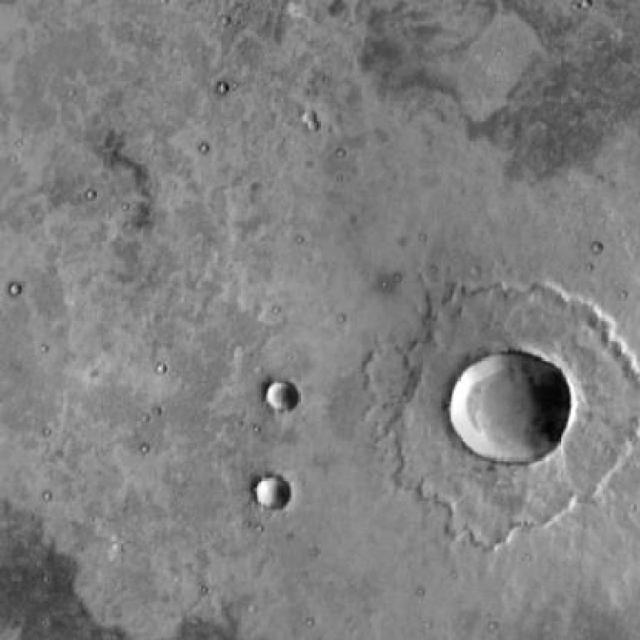crater: (456, 351, 572, 462), (255, 470, 293, 507), (265, 380, 298, 411)
